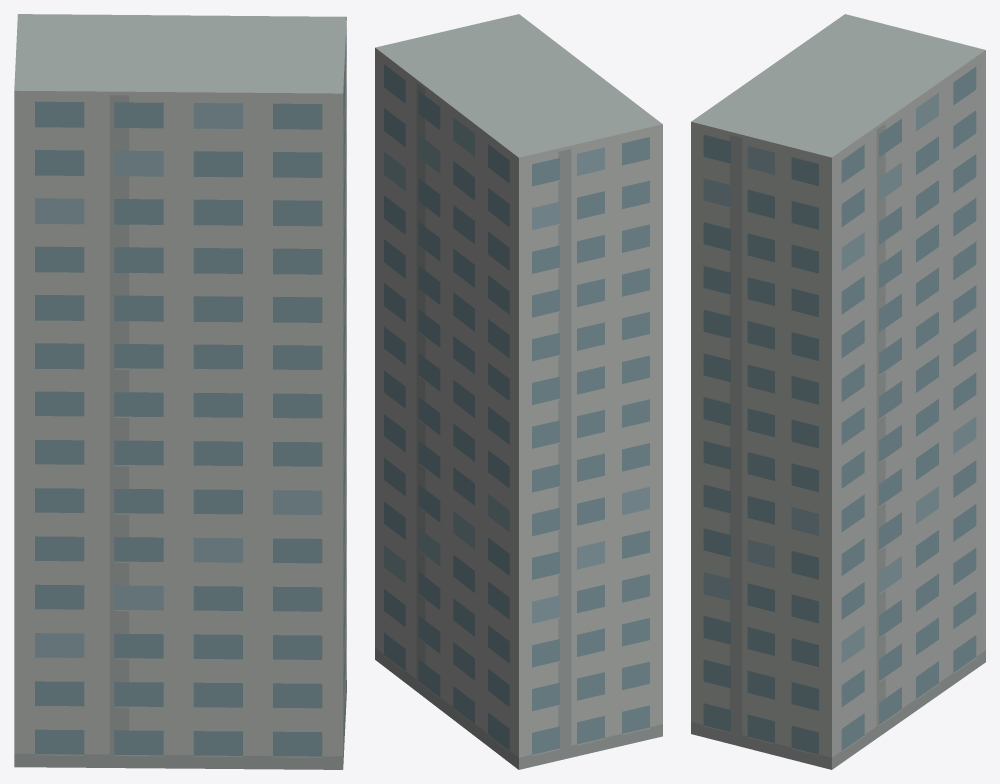
Rendered from residential-79f46d1e-65b1-4323-9634-624b9d666391.glb.
3 views of the same model, side by side, from view 1: azimuth 30°, elevation 25°; view 2: azimuth 150°, elevation 25°; view 3: azimuth 270°, elevation 25° (orthographic). The views are drawn at different scales.
Visible parts, largest first — view 1: residential-79f46d1e-65b1-4323-9634-624b9d666391.tmp; view 2: residential-79f46d1e-65b1-4323-9634-624b9d666391.tmp; view 3: residential-79f46d1e-65b1-4323-9634-624b9d666391.tmp.
Boxes of the visible parts, x1,y1,x2,y2 form: residential-79f46d1e-65b1-4323-9634-624b9d666391.tmp: (14,14,346,769); residential-79f46d1e-65b1-4323-9634-624b9d666391.tmp: (375,14,662,769); residential-79f46d1e-65b1-4323-9634-624b9d666391.tmp: (691,14,985,769).
Size of the model in its own units: 23.15 by 46 by 20.08.
